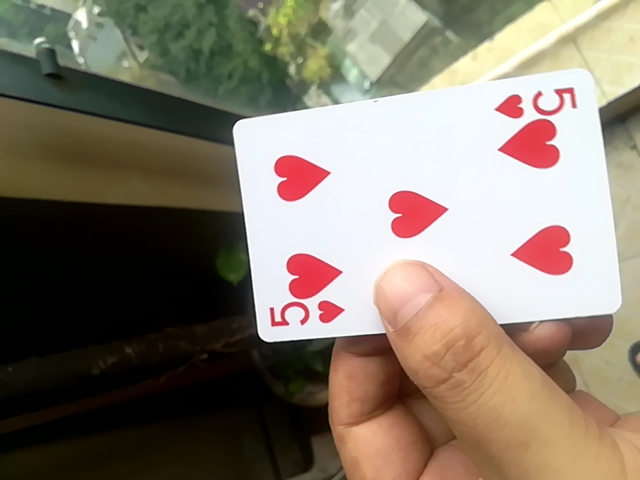hx 5: (234, 63, 625, 349)
